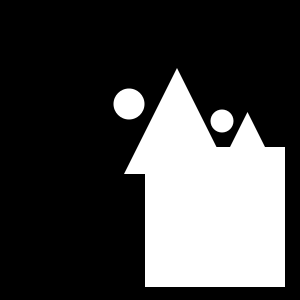circle: (145, 147, 285, 287)
rectangle: (113, 89, 144, 120), (210, 110, 234, 132)
triangle: (124, 68, 230, 174), (217, 112, 278, 173)
